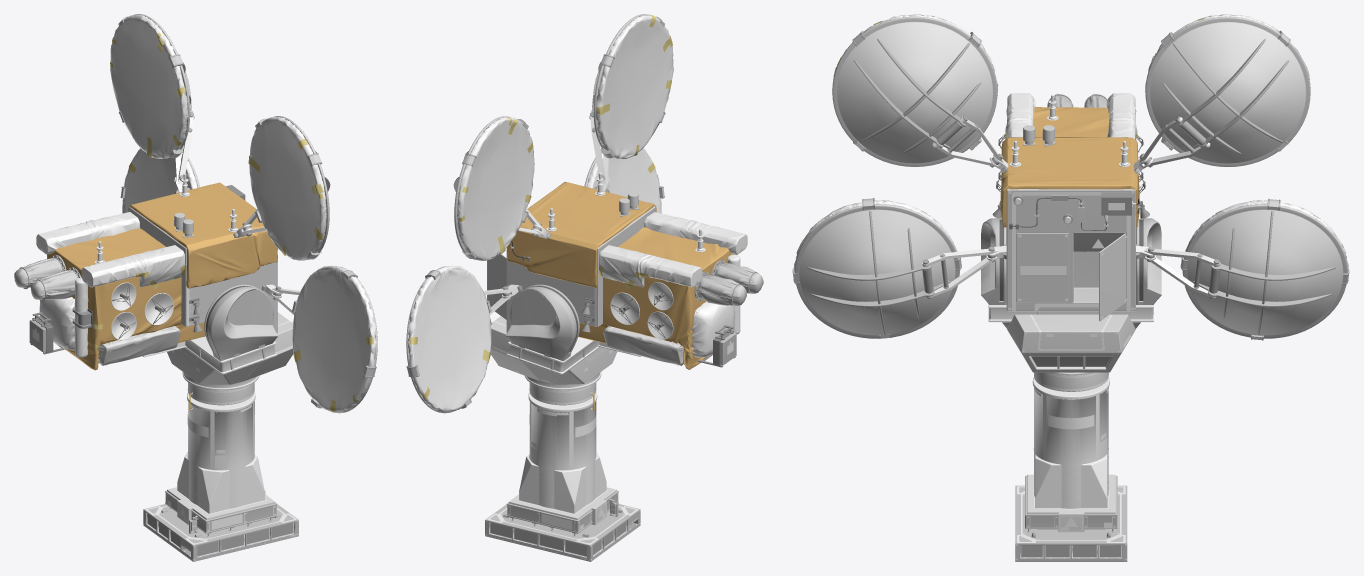
3 renders of one model, left to right at view 1: azimuth 30°, elevation 25°; view 2: azimuth 150°, elevation 25°; view 3: azimuth 270°, elevation 25°, orthographic. The views are drawn at different scales.
Parts seen in each view (by area): view 1: SM_H_Industrial_ISS_Satellite_01; view 2: SM_H_Industrial_ISS_Satellite_01; view 3: SM_H_Industrial_ISS_Satellite_01.
Boxes of the visible parts, x1,y1,x2,y2 form: SM_H_Industrial_ISS_Satellite_01: (14,14,377,561); SM_H_Industrial_ISS_Satellite_01: (406,14,763,561); SM_H_Industrial_ISS_Satellite_01: (792,14,1349,561).
Bounding box in the file's own units: 433 × 258 × 444.
